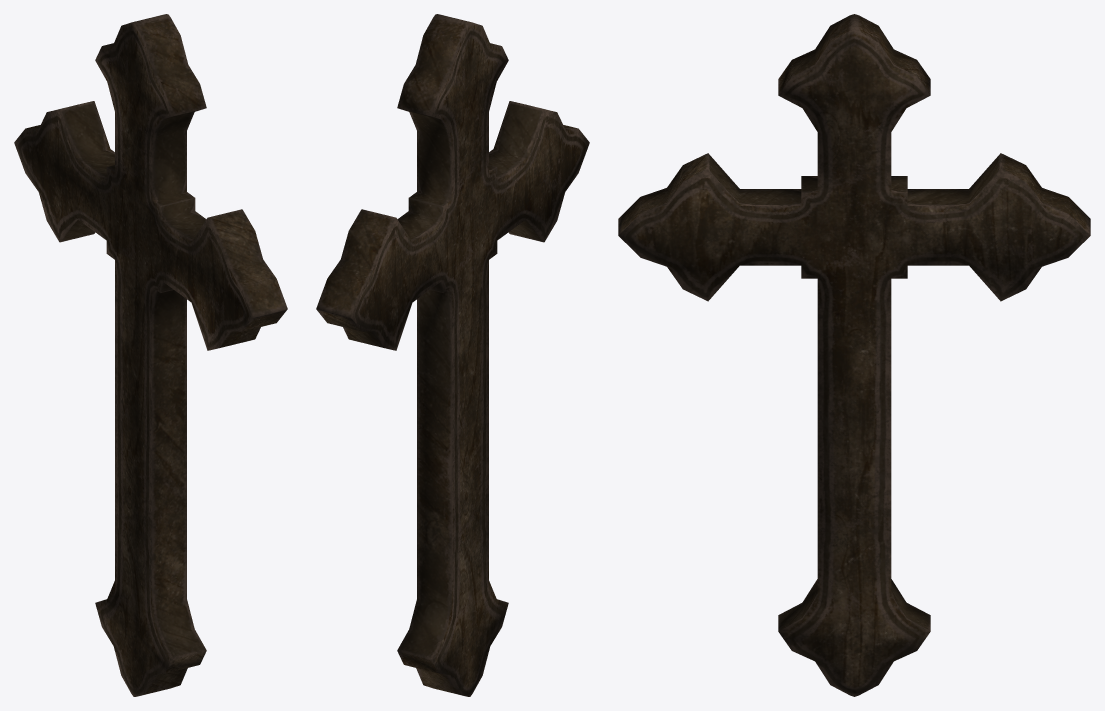
File: wooden_cross.glb
The picture shows the model from 3 angles, left to right: view 1: azimuth 30°, elevation 25°; view 2: azimuth 150°, elevation 25°; view 3: azimuth 270°, elevation 25°; orthographic projection.
Parts seen in each view (by area): view 1: Cross; view 2: Cross; view 3: Cross.
Boxes of the visible parts, bbox=[...] form: Cross: bbox=[14, 14, 287, 696]; Cross: bbox=[316, 14, 589, 696]; Cross: bbox=[618, 14, 1090, 696].
Bounding box in the file's own units: 0.2413 × 4.46 × 2.87.
1 material, 1 textured.
